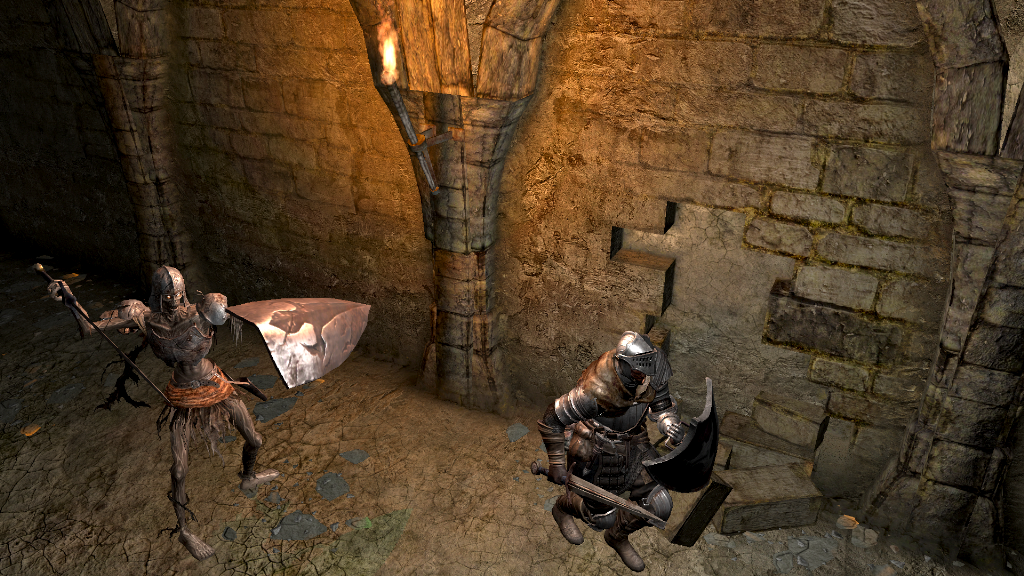player: (528, 329, 720, 576)
undeadSoldier: (49, 262, 282, 561)
